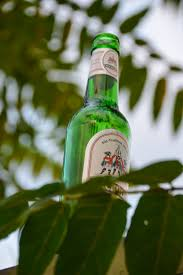beer: (64, 33, 130, 204)
